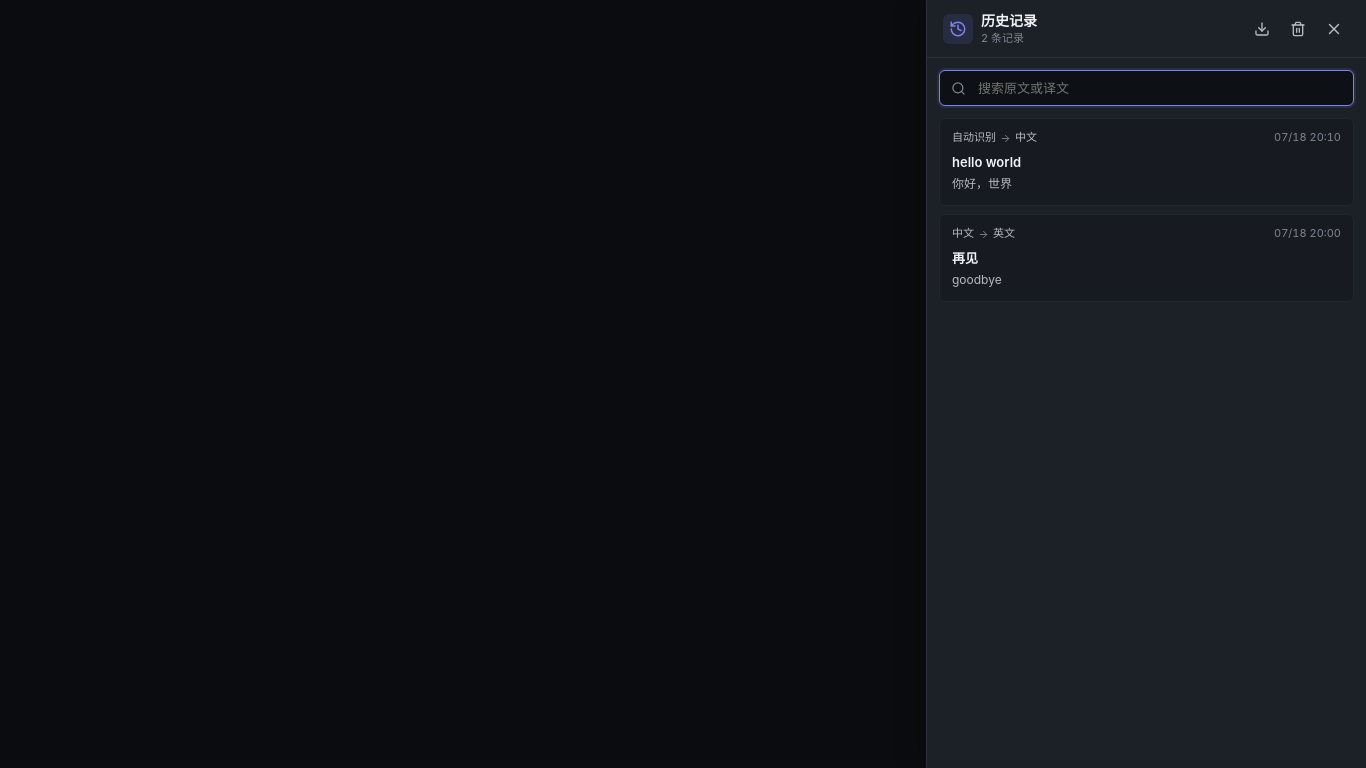
Test: history drawer › shows localized language routes and filters source and translated text
The image size is (1366, 768).
Expected: the text "2 条记录" is shown, [981,30,1024,44]
Expected: the text "自动识别" is shown, [952,131,996,145]
Type "goodbye" into the field named "搜索翻译记录" at x=1146, y=88, box [939,70,1354,106]
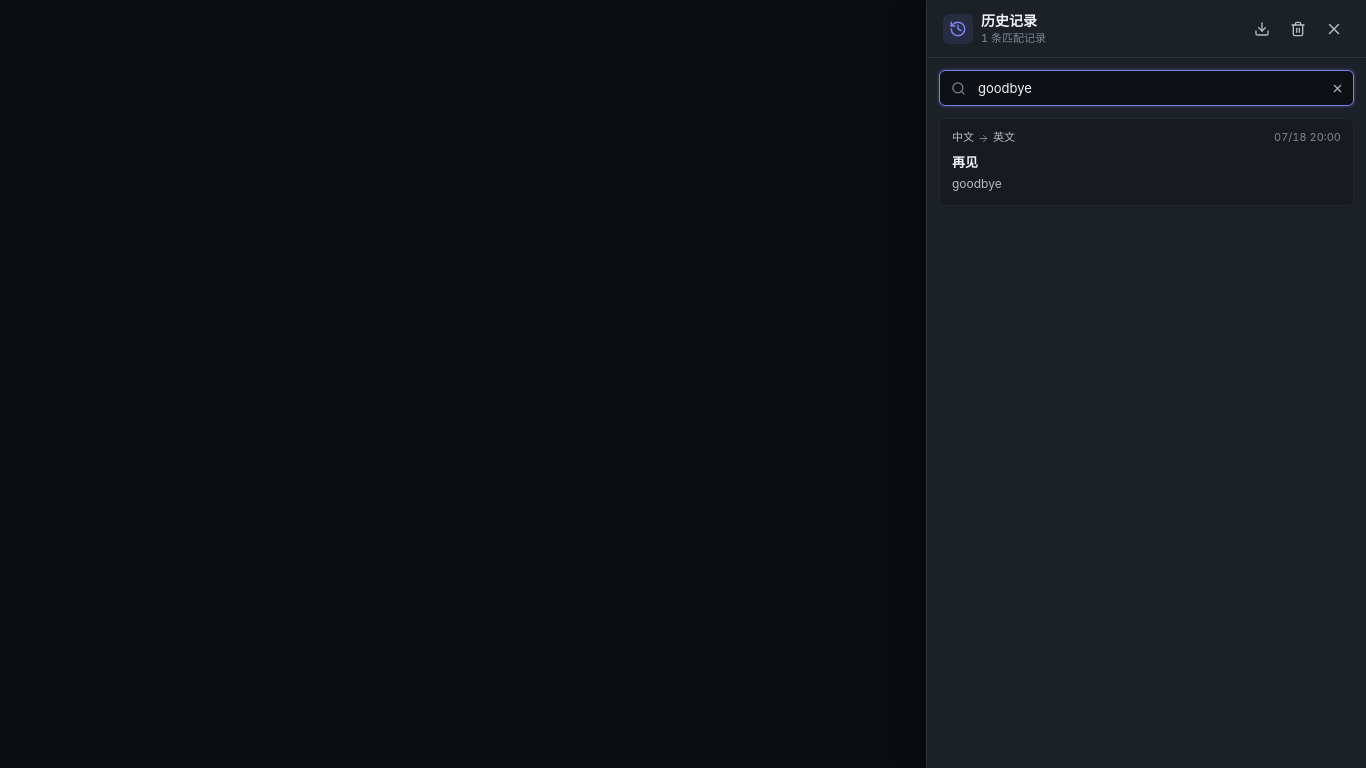
Expected: the text "再见" is shown, [952,154,978,170]
Now the text "1 条匹配记录" is shown, box [981,32,1046,45]
Now the button "hello world" is gone
Replace the text in the field named "搜索翻译记录" with "missing" at x=1146, y=88, box [939,70,1354,106]
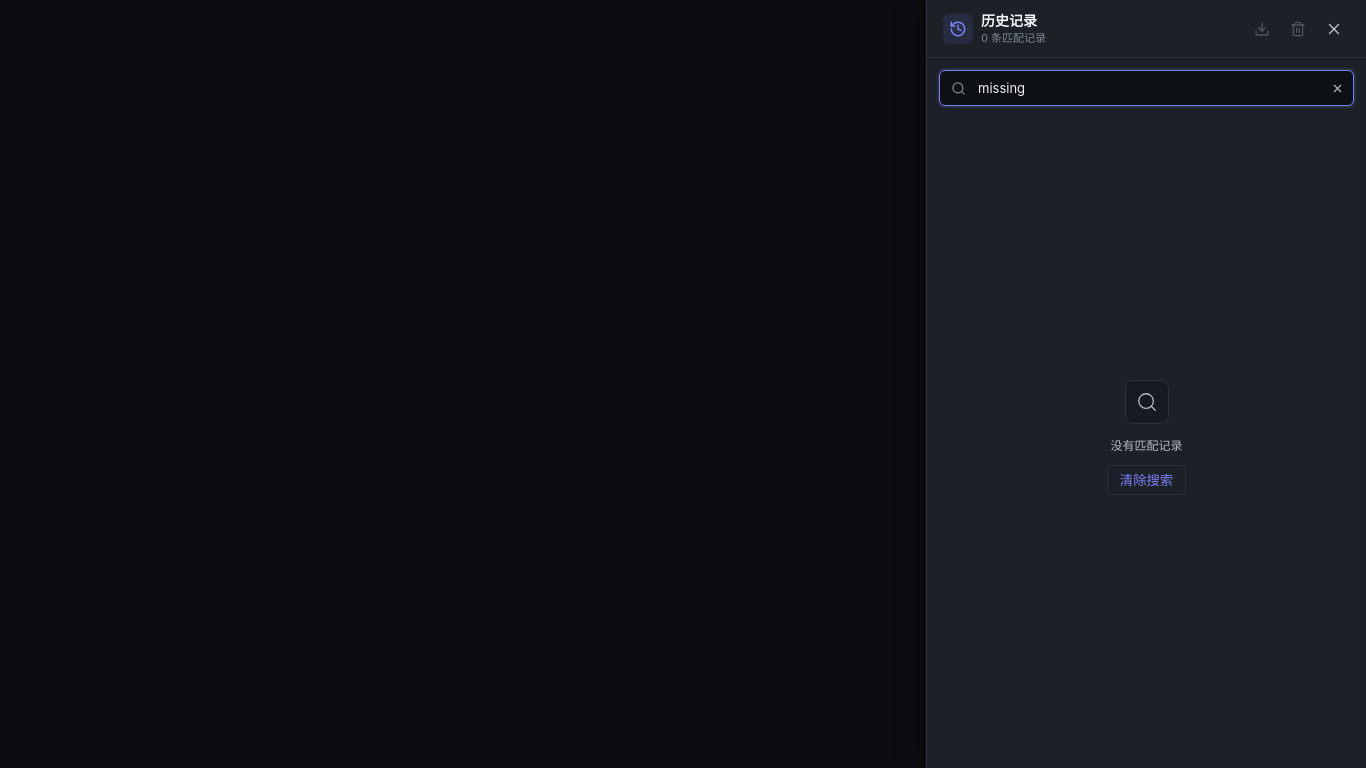
Now the text "0 条匹配记录" is shown, box [981,32,1046,45]
Now the text "没有匹配记录" is shown, box [1110,436,1182,453]
Click the button "清除搜索" at x=1146, y=480, box [1107,465,1186,495]
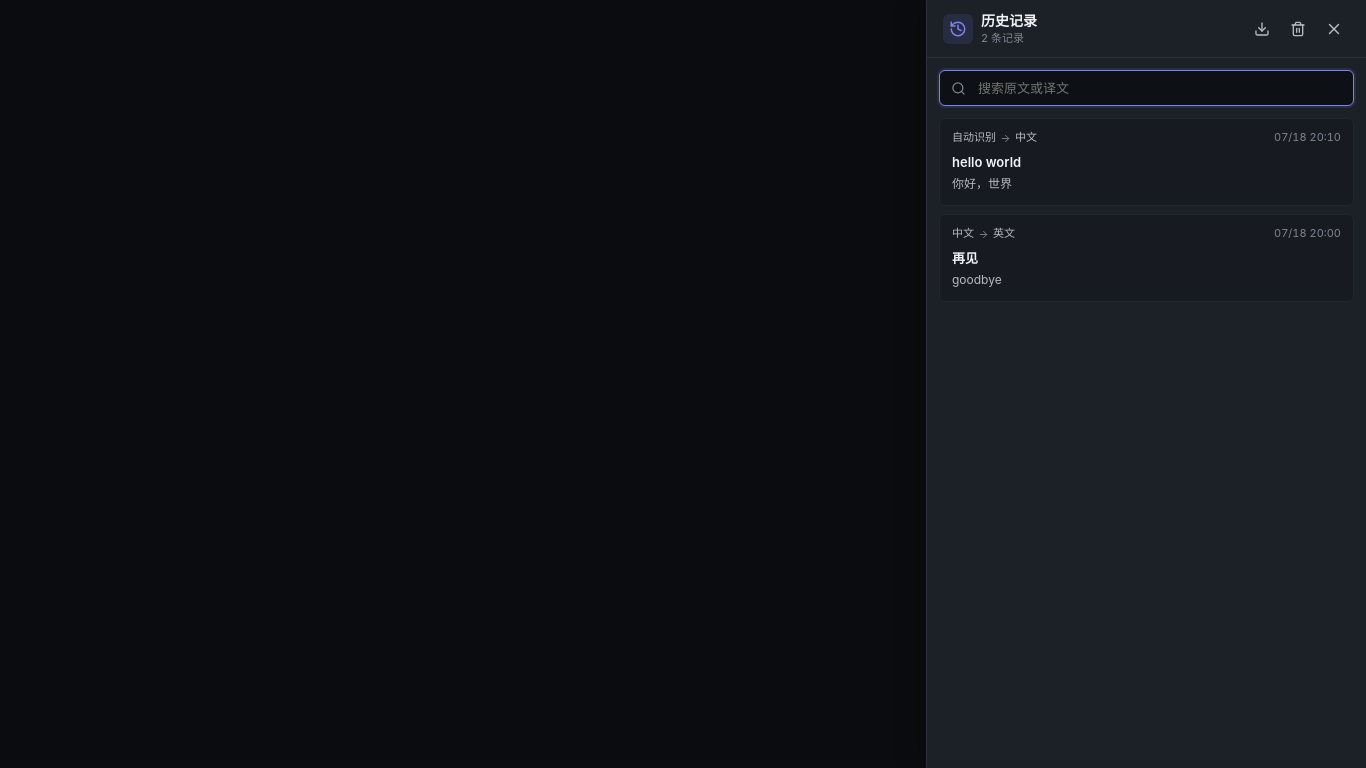
Now the text "2 条记录" is shown, box [981,30,1024,44]
